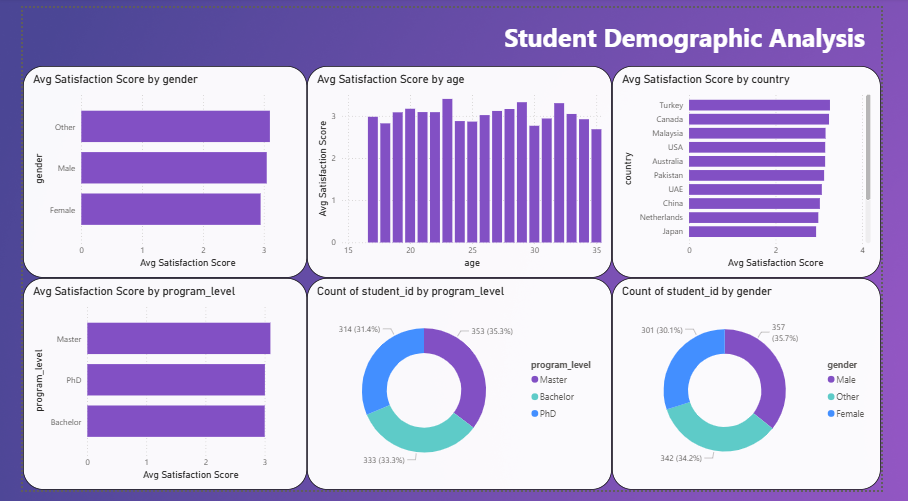

This screenshot's page, from the dashboard's own definition file:
{"tool":"powerbi","page":{"name":"Page 4","canvas":[1280,720],"ordinal":3},"visuals":[{"type":"barChart","fields":{"Category":["data mahasiswa.gender"],"Y":["data mahasiswa.Avg Satisfaction Score"]},"box":[0,86.6,423.9,316.4],"z":0},{"type":"columnChart","fields":{"Category":["data mahasiswa.age"],"Y":["data mahasiswa.Avg Satisfaction Score"]},"box":[423.9,86.6,455.2,316.4],"z":1000},{"type":"barChart","fields":{"Category":["data mahasiswa.country"],"Y":["data mahasiswa.Avg Satisfaction Score"]},"box":[879.1,86.6,401.5,316.4],"z":2000},{"type":"barChart","fields":{"Category":["data mahasiswa.program_level"],"Y":["data mahasiswa.Avg Satisfaction Score"]},"box":[0,403,423.9,316.4],"z":3000},{"type":"donutChart","fields":{"Category":["data mahasiswa.program_level"],"Y":["CountNonNull(data mahasiswa.student_id)"]},"box":[423.9,403,455.2,316.4],"z":4000},{"type":"donutChart","fields":{"Category":["data mahasiswa.gender"],"Y":["CountNonNull(data mahasiswa.student_id)"]},"box":[879.1,403,401.5,316.4],"z":5000},{"type":"textbox","box":[713.4,13.4,567.2,73.1],"z":5001}]}

Visuals, with their boxes in screenshot pixels (x1, y1, x2, y2), scaled from the page's 1280x720 canvas onto the 908x501 screenshot:
barChart - data mahasiswa.gender x data mahasiswa.Avg Satisfaction Score: <box>0,60,301,280</box>
columnChart - data mahasiswa.age x data mahasiswa.Avg Satisfaction Score: <box>301,60,624,280</box>
barChart - data mahasiswa.country x data mahasiswa.Avg Satisfaction Score: <box>624,60,907,280</box>
barChart - data mahasiswa.program_level x data mahasiswa.Avg Satisfaction Score: <box>0,280,301,500</box>
donutChart - data mahasiswa.program_level x CountNonNull(data mahasiswa.student_id): <box>301,280,624,500</box>
donutChart - data mahasiswa.gender x CountNonNull(data mahasiswa.student_id): <box>624,280,907,500</box>
textbox: <box>506,9,907,60</box>
